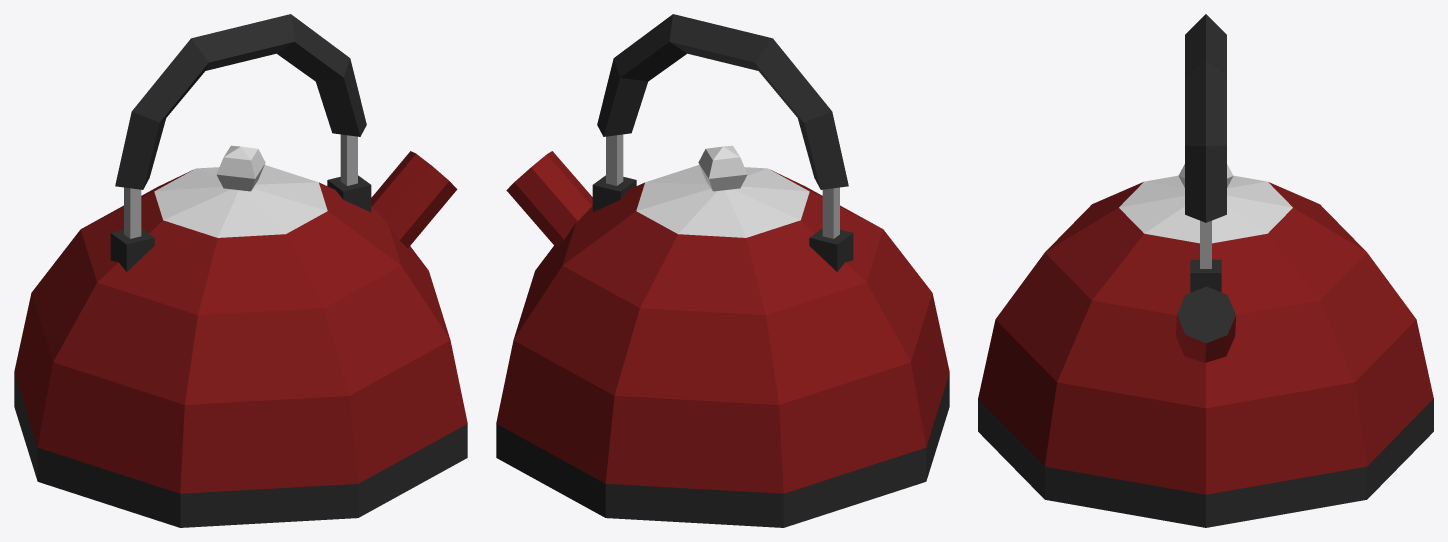
File: Kettle.fbx
The picture shows the model from 3 angles, left to right: view 1: azimuth 30°, elevation 25°; view 2: azimuth 150°, elevation 25°; view 3: azimuth 270°, elevation 25°; orthographic projection. The views are drawn at different scales.
Parts seen in each view (by area): view 1: Kettle, Lid; view 2: Kettle, Lid; view 3: Kettle, Lid.
Boxes of the visible parts, <box> form: Kettle: <box>14,14,467,527</box>; Lid: <box>154,145,327,237</box>; Kettle: <box>496,14,949,527</box>; Lid: <box>636,145,809,237</box>; Kettle: <box>978,14,1433,527</box>; Lid: <box>1119,164,1292,243</box>.
Bounding box in the file's own units: 20.37 × 19.08 × 20.
